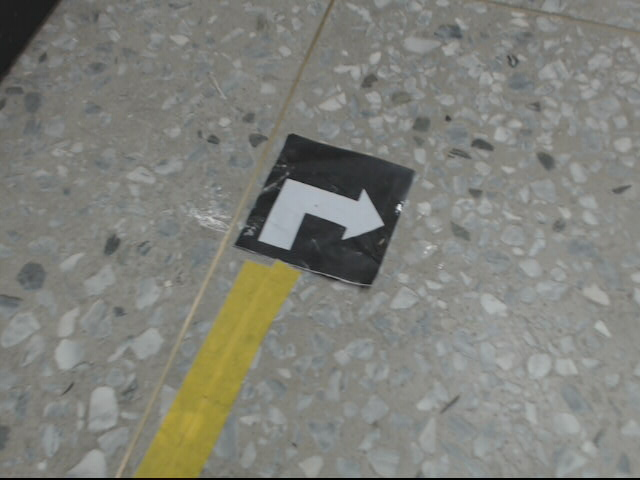right: (236, 133, 416, 287)
